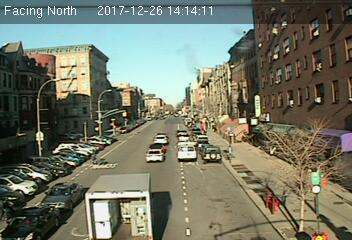car: (1, 206, 59, 240), (41, 182, 83, 209), (203, 146, 222, 163), (146, 148, 164, 163), (153, 134, 169, 145)
truck: (84, 174, 155, 240), (177, 142, 198, 163)
